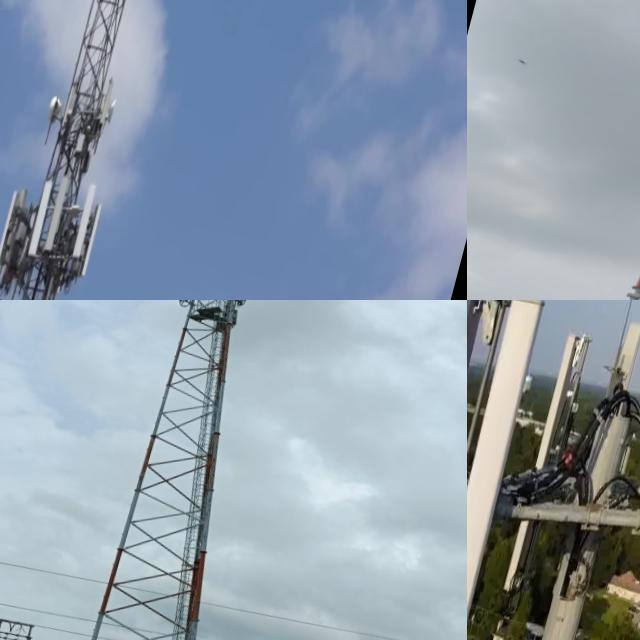GSM Antenna: (467, 300, 562, 640), (496, 322, 594, 614), (467, 300, 512, 640), (584, 323, 640, 497), (40, 170, 76, 259), (64, 183, 102, 267), (24, 176, 59, 262), (78, 202, 109, 278), (0, 183, 22, 266), (96, 81, 118, 134), (233, 300, 253, 311), (173, 300, 191, 310)
Microwave Antenna: (41, 93, 68, 135), (100, 100, 120, 137)
